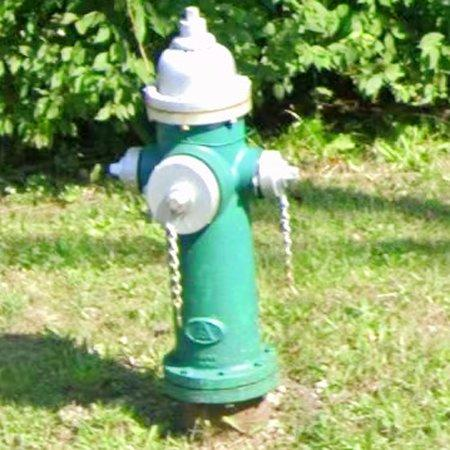a fire hydrant: (108, 7, 300, 405)
